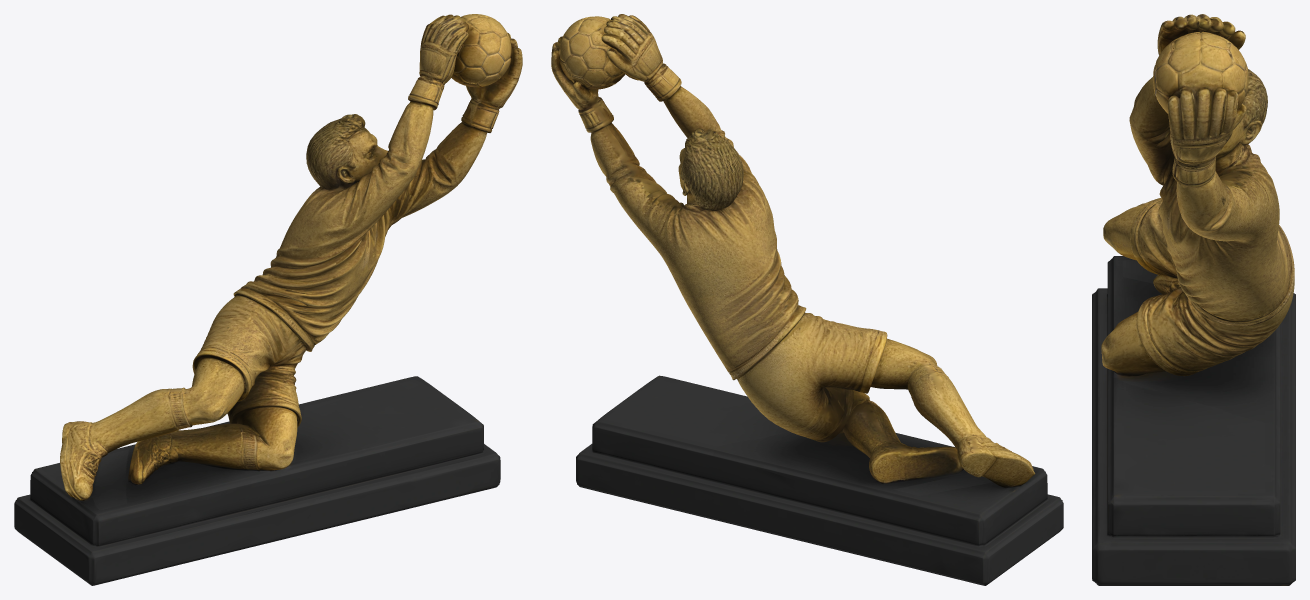
The model's file is clean_sheet.glb.
3 views of the same model, side by side, from view 1: azimuth 30°, elevation 25°; view 2: azimuth 150°, elevation 25°; view 3: azimuth 270°, elevation 25° (orthographic). The views are drawn at different scales.
Parts seen in each view (by area): view 1: node_0; view 2: node_0; view 3: node_0.
Boxes of the visible parts, bbox=[...] form: node_0: bbox=[14, 14, 522, 585]; node_0: bbox=[551, 14, 1063, 585]; node_0: bbox=[1092, 14, 1295, 585].
Size of the model in its own units: 0.8777 by 0.7961 by 0.2592.
Materials: 1 (1 with a texture image).
